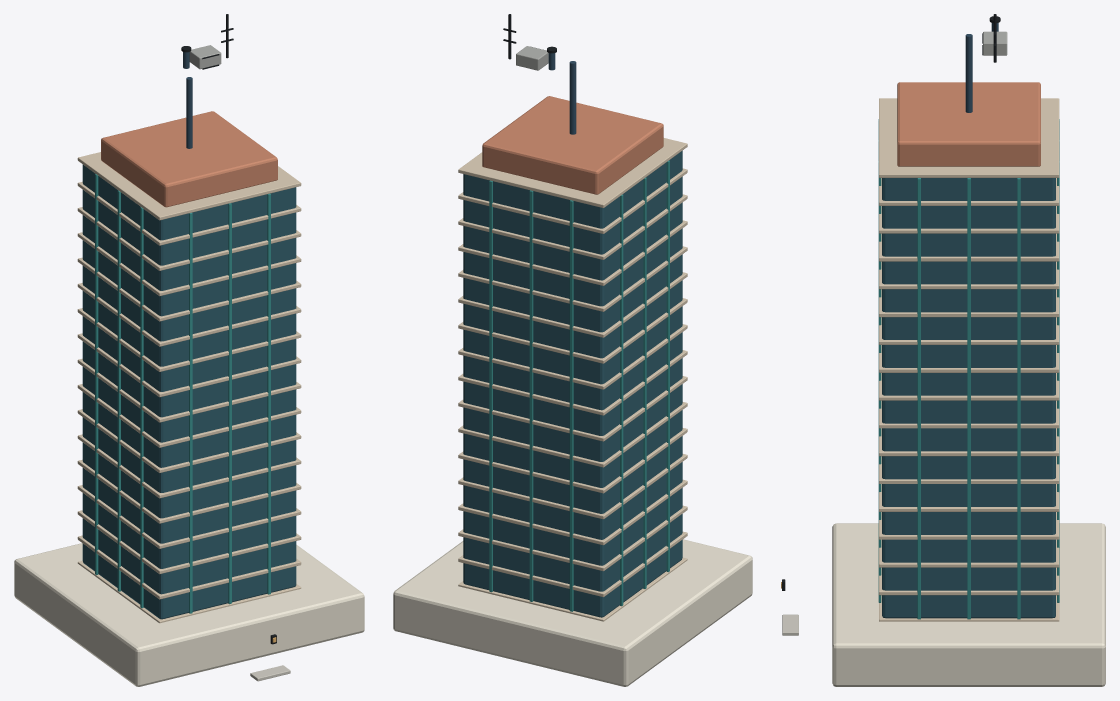
The model's file is RES_TOWER_3x3_001.glb.
3 views of the same model, side by side, from view 1: azimuth 30°, elevation 25°; view 2: azimuth 150°, elevation 25°; view 3: azimuth 270°, elevation 25° (orthographic). The views are drawn at different scales.
Visible parts, largest first — view 1: RES_TOWER_3x3_001_Visual; view 2: RES_TOWER_3x3_001_Visual; view 3: RES_TOWER_3x3_001_Visual.
Part boxes in pixels (x1,y1,x2,y2): RES_TOWER_3x3_001_Visual: [14, 14, 364, 686]; RES_TOWER_3x3_001_Visual: [393, 14, 752, 686]; RES_TOWER_3x3_001_Visual: [781, 14, 1105, 686].
Size of what is drawn, in the model's own units: 4.55 by 11.02 by 5.08.
